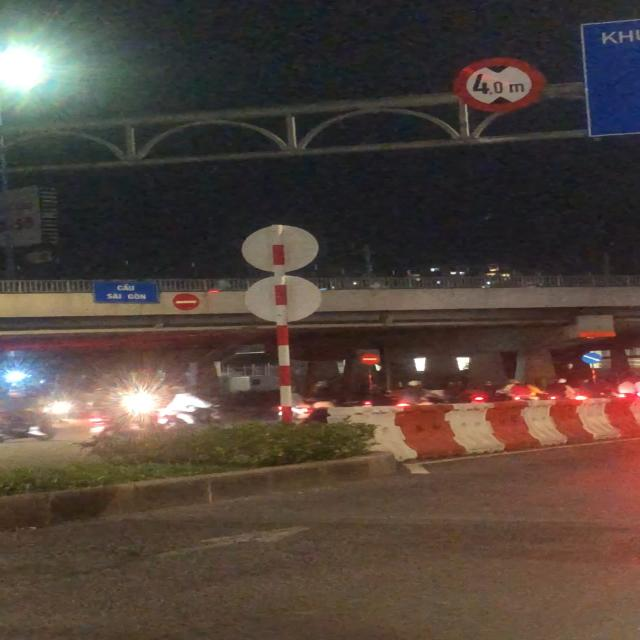Bien bao cam di nguoc chieu: (170, 292, 205, 312), (358, 352, 381, 366)
Bien bao han che chieu cao: (453, 56, 560, 113)
Bien bao huong phai di vong chuong ngai vat: (578, 351, 604, 366)
